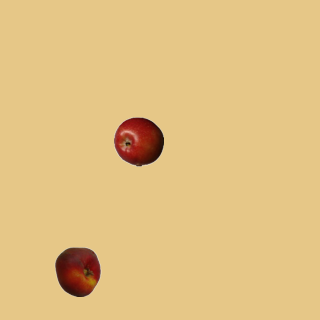Apple Braeburn: (113, 116, 163, 166)
Nectarine Flat: (52, 246, 102, 296)
